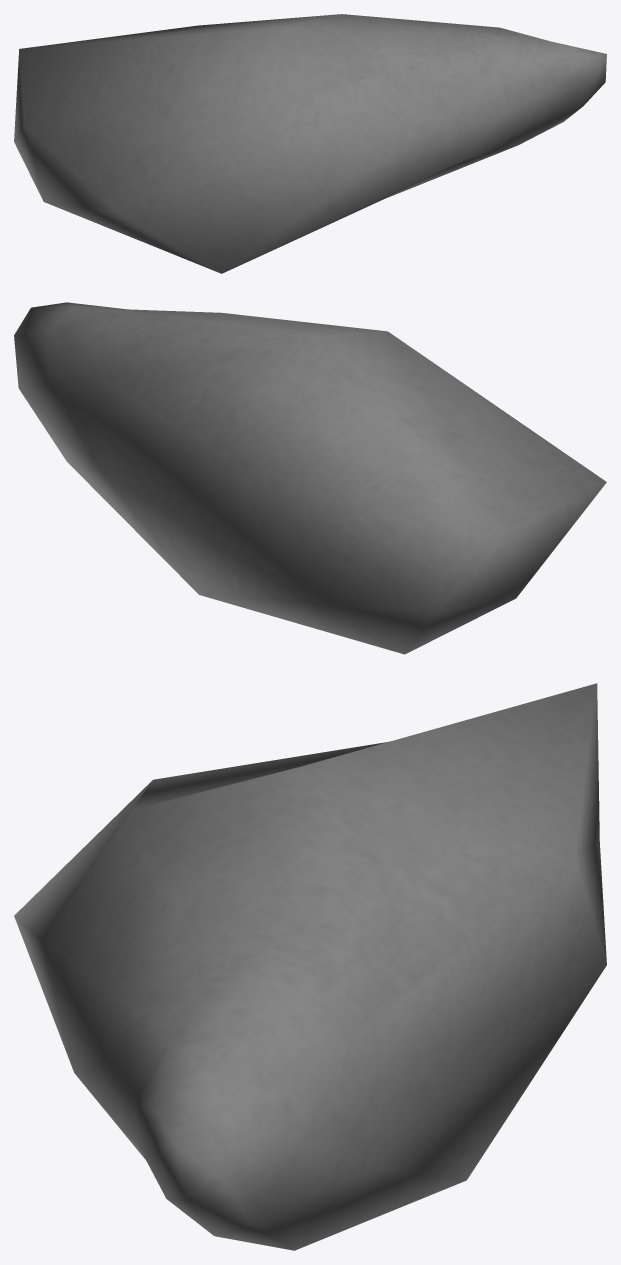
Rendered from Stone_1.fbx.
3 renders of one model, top to bottom at view 1: azimuth 30°, elevation 25°; view 2: azimuth 150°, elevation 25°; view 3: azimuth 270°, elevation 25°, orthographic. The views are drawn at different scales.
Visible parts, largest first — view 1: Stone_1; view 2: Stone_1; view 3: Stone_1.
Boxes of the visible parts, <box> form: Stone_1: <box>14,14,606,273</box>; Stone_1: <box>14,302,606,654</box>; Stone_1: <box>14,683,606,1250</box>.
Size of the model in its own units: 1.49 by 0.5759 by 0.8602.
